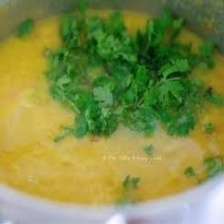dal: (0, 8, 224, 204)
